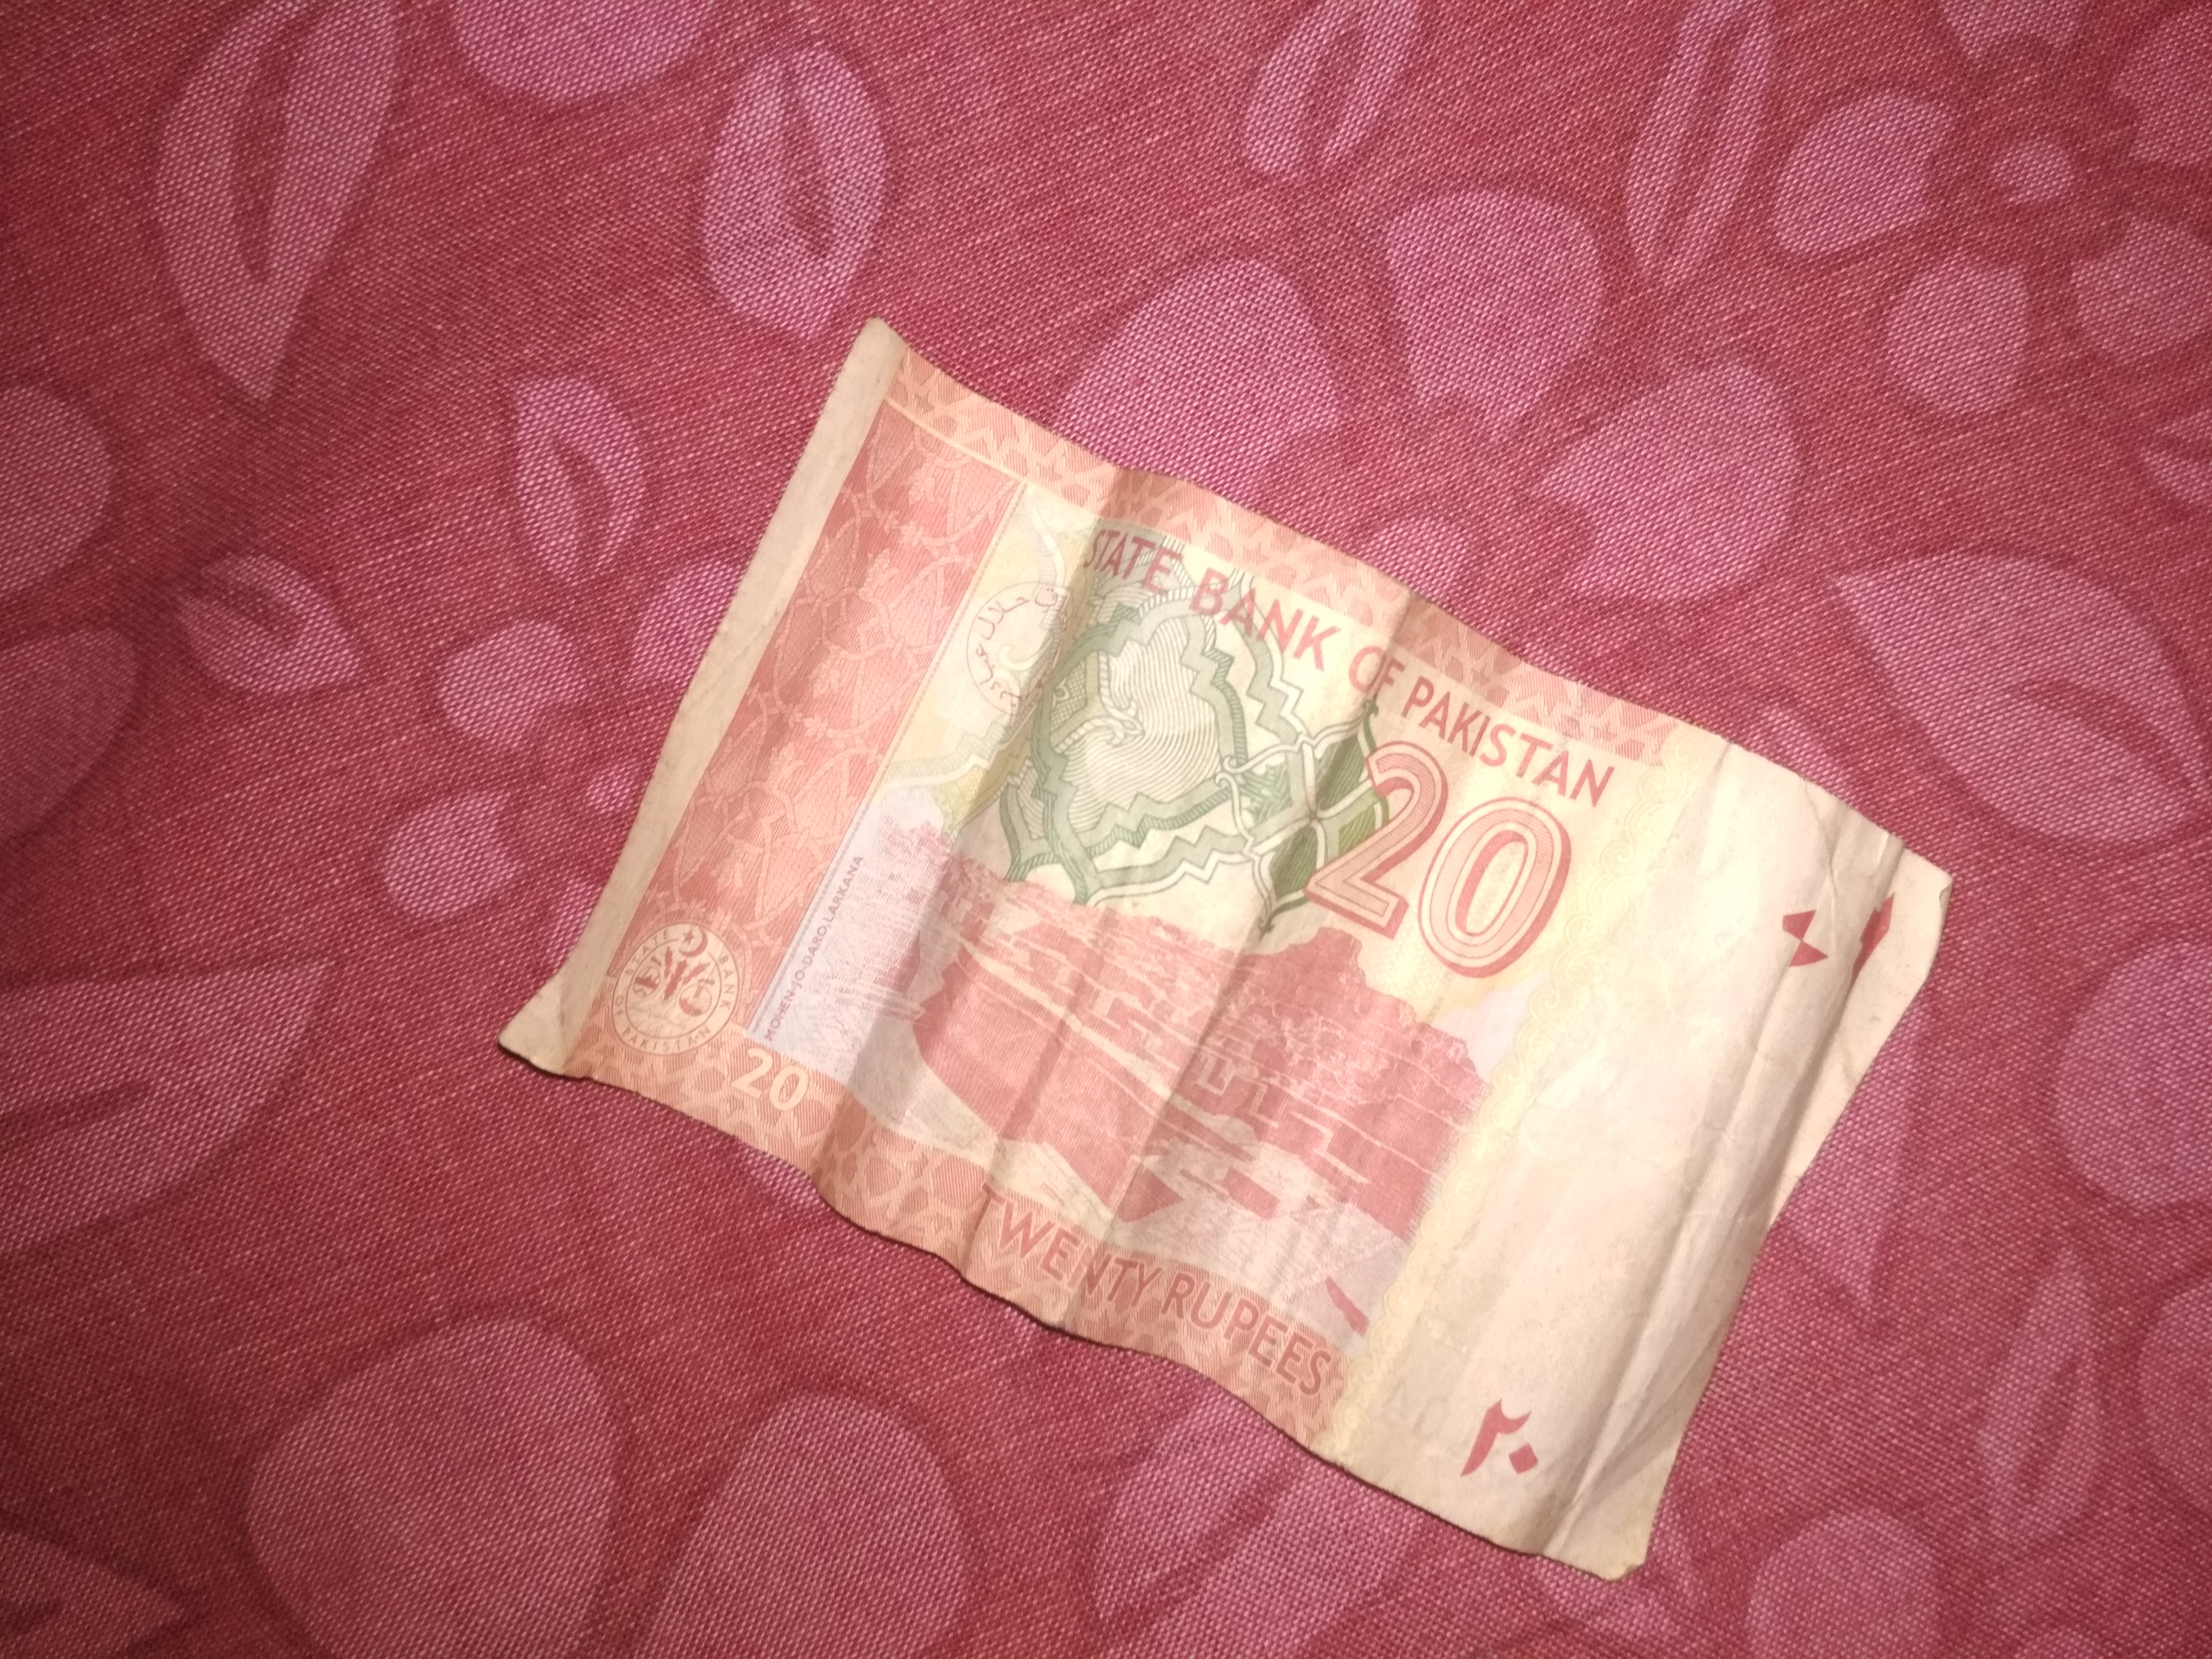20 rupee: (491, 307, 1963, 1614)
